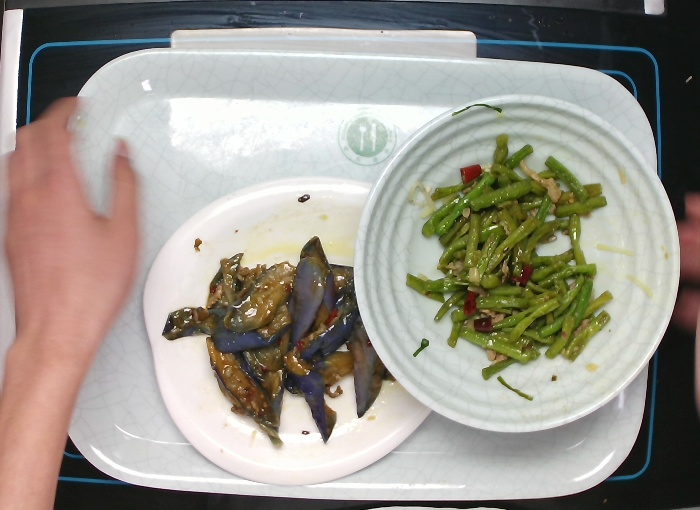JYsf-Da_Tang_Wan: (351, 89, 683, 436)
JYsf-Mian_Pan: (138, 173, 437, 488)
